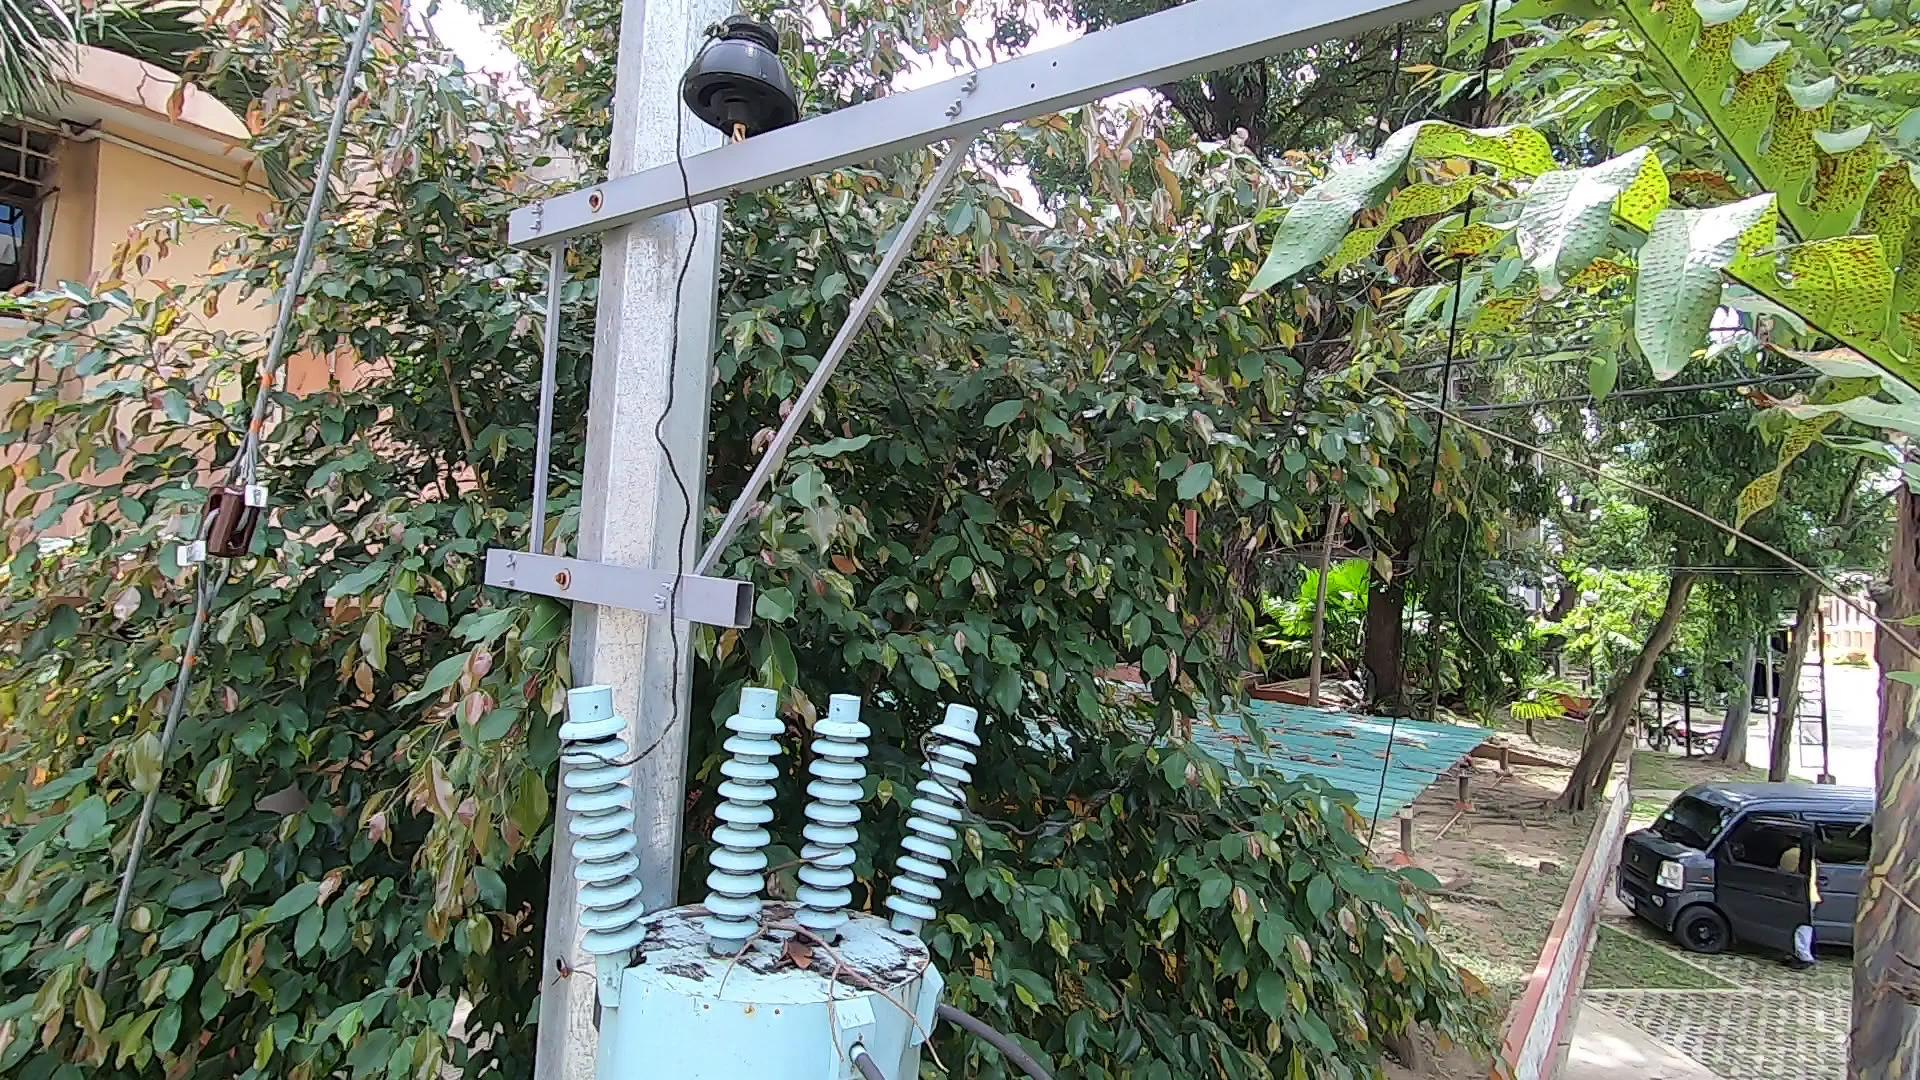leaf: (754, 919, 835, 989)
tree branch: (720, 894, 967, 1080)
